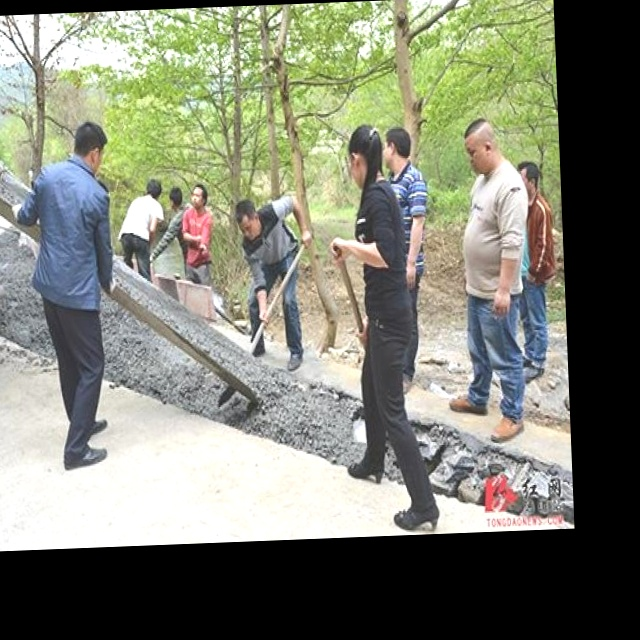Sin_Casco_Mascarrilla: (344, 123, 384, 184), (73, 120, 109, 169), (234, 198, 261, 241)
